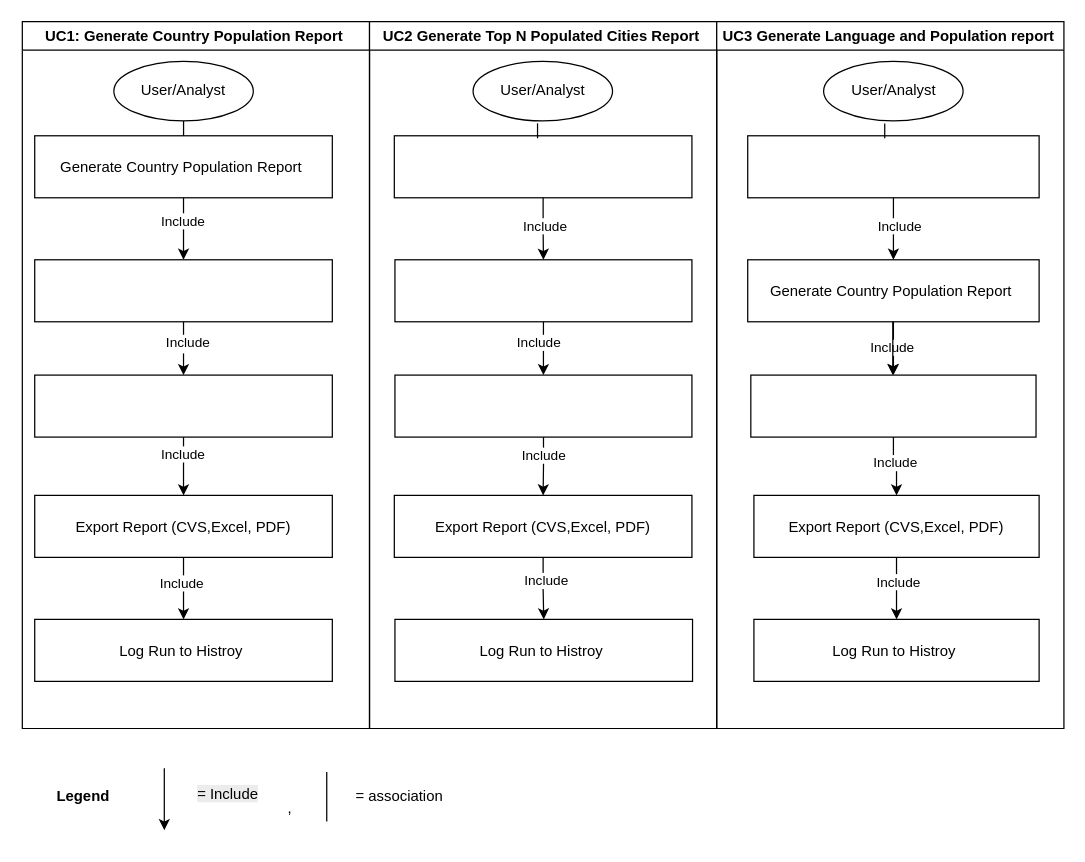
This 1085x862 diagram has some shape labels left out. The centre of each missing label's shape, as x and y in pixels:
"Calculate % of World" goes at pixel 893 405.
"Generate Language & Population Report" goes at pixel 892 166.
"Generate Top N Populted Cities" goes at pixel 542 166.
"Query City by Scope & sort" goes at pixel 543 405.
"Query Countries & sort by Population" goes at pixel 182 405.
"Validate Input" goes at pixel 182 290.
"Validate N &Scope" goes at pixel 543 290.
